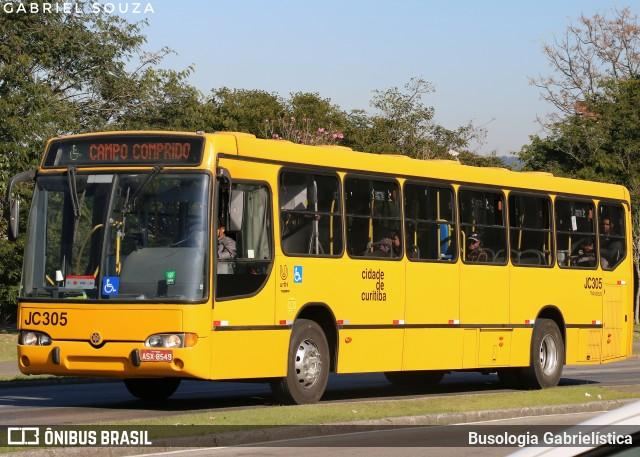CAMPO COMPRIDO: (86, 141, 195, 163)
